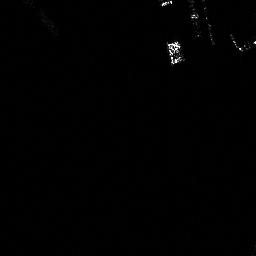ship: (165, 38, 185, 67)
